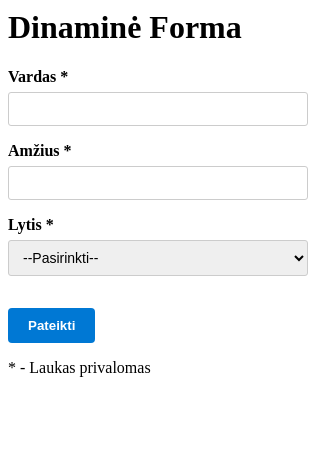
Test: DynamicForm - validation and conditions › Conditional visibility › should show Maternity Leave when gender = Moteris
Select "Moteris" in the dropdown with id "gender" at (158, 258), box [8,240,308,276]
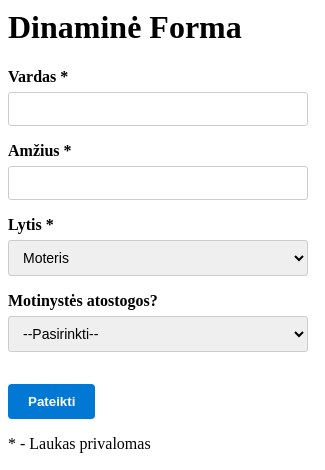
Result: the dropdown with id "onMaternityLeave" is shown at [8,316,308,352]
